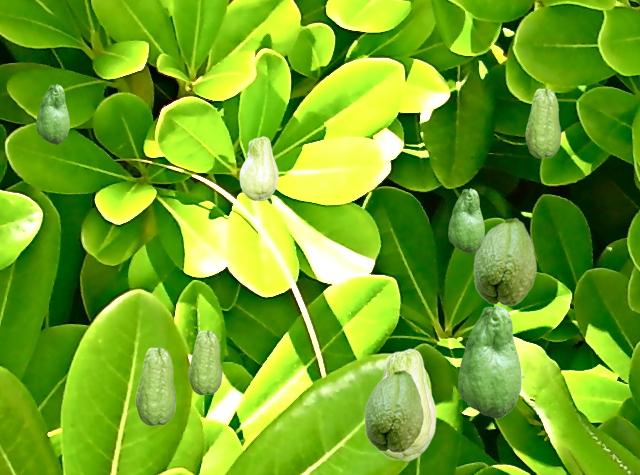sayote: (458, 305, 520, 417), (380, 348, 435, 460), (473, 217, 536, 305), (364, 369, 423, 452), (135, 347, 175, 425), (239, 136, 277, 200), (525, 88, 560, 157), (448, 188, 483, 252), (188, 330, 221, 394), (36, 84, 68, 143)
